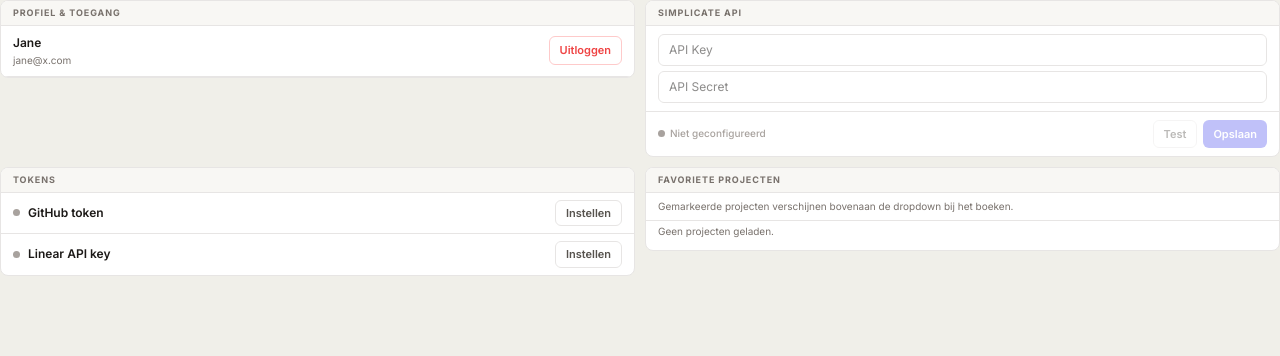
Test case: AccountSettings › Simplicate save & test › test connection succeeds and stores data + employee
Type "KEY" into the field with placeholder "API Key". click: (962, 50)
box: [658,34,1267,66]
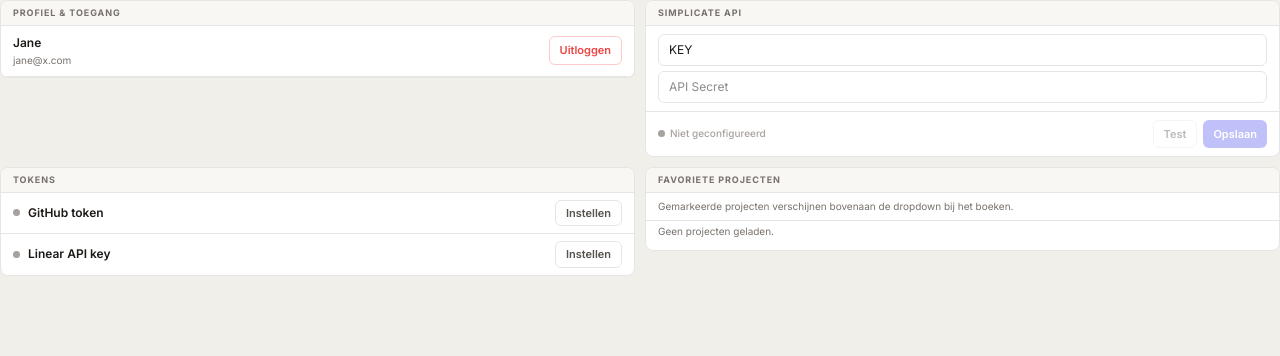
Type "SECRET" into the password field with placeholder "API Secret". click: (962, 86)
box: [658,70,1267,102]
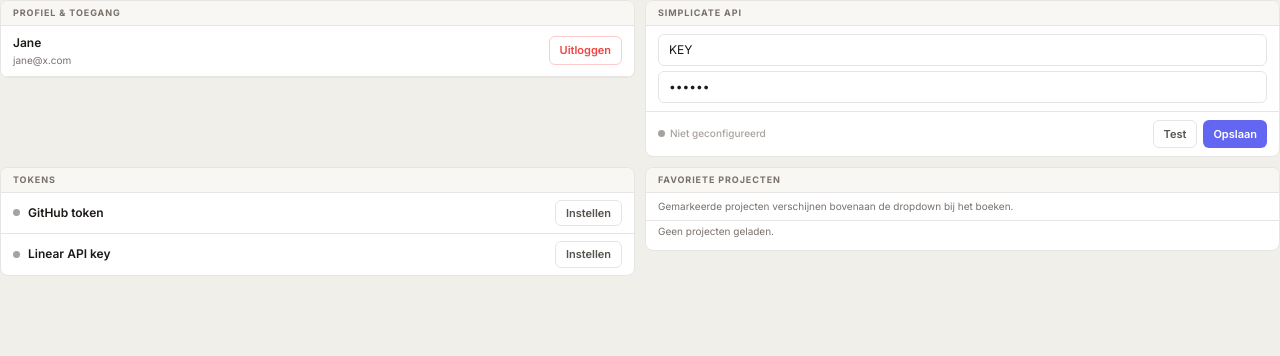
Click the button "Test". click: (1175, 134)
box: [1152,120,1197,148]
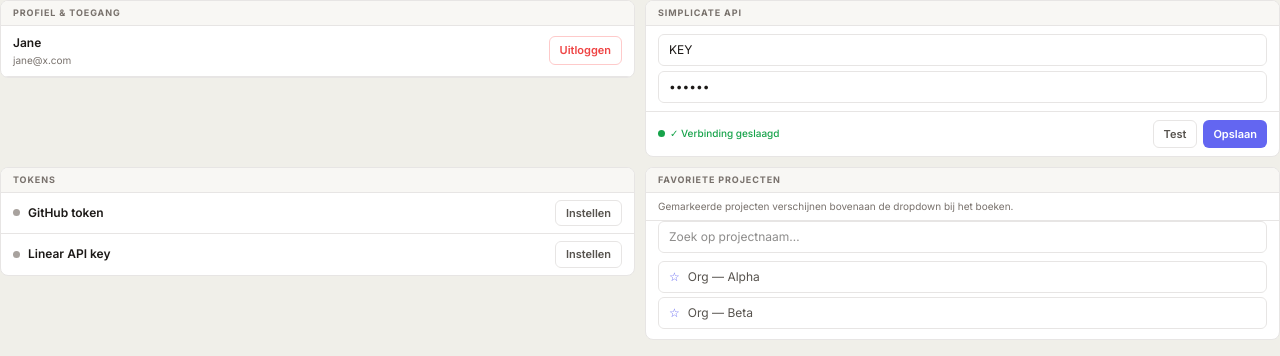
Check: the text "✓ Verbinding geslaagd" is shown, box [670,126,780,141]
